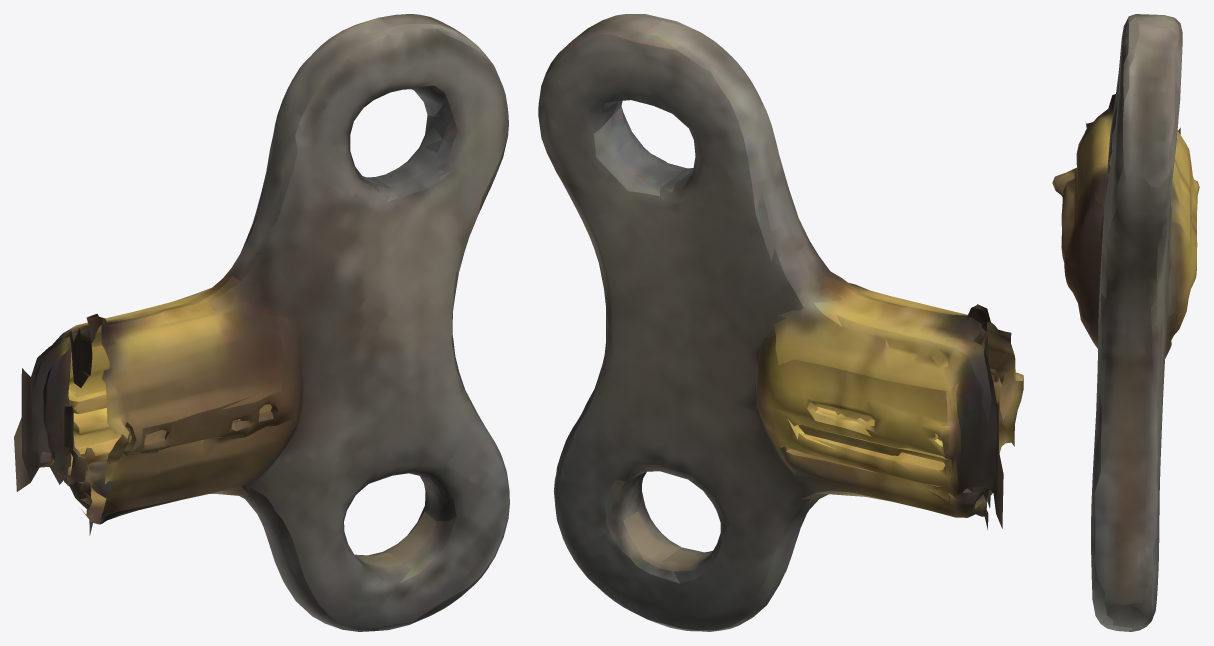
3 views of the same model, side by side, from view 1: azimuth 30°, elevation 25°; view 2: azimuth 150°, elevation 25°; view 3: azimuth 270°, elevation 25° (orthographic). The views are drawn at different scales.
Parts seen in each view (by area): view 1: world; view 2: world; view 3: world.
Part boxes in pixels (left/top/right/bottom): world: left=14, top=14, right=509, bottom=631; world: left=538, top=14, right=1023, bottom=631; world: left=1052, top=14, right=1199, bottom=631.
Size of the model in its own units: 0.0436 by 0.0528 by 0.0118.
Materials: 1 (1 with a texture image).
